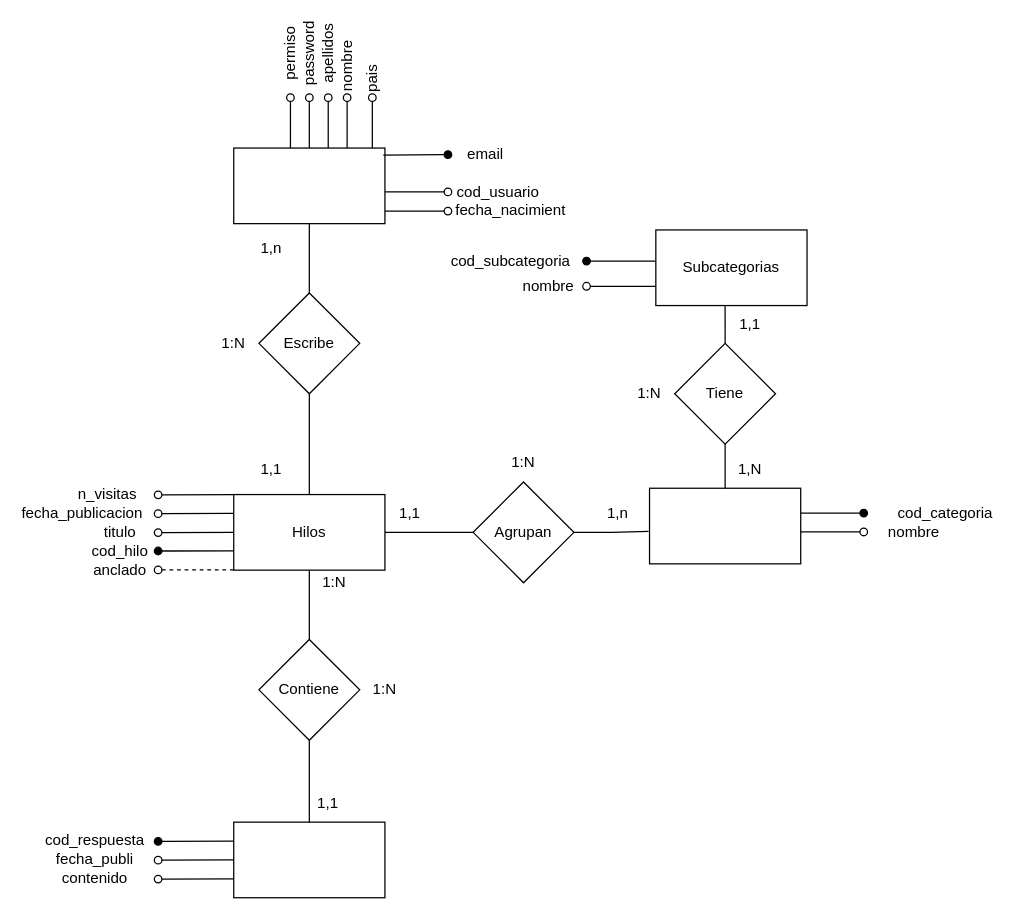
Some shapes in this 1014 by 920 pixel diagram are drawn without their labels. Here are the shapes that lost their labels. From the top down, the box of each, then its label:
(232, 147, 385, 224): Usuarios
(648, 487, 801, 564): Categorias
(232, 821, 385, 898): Respuestas
